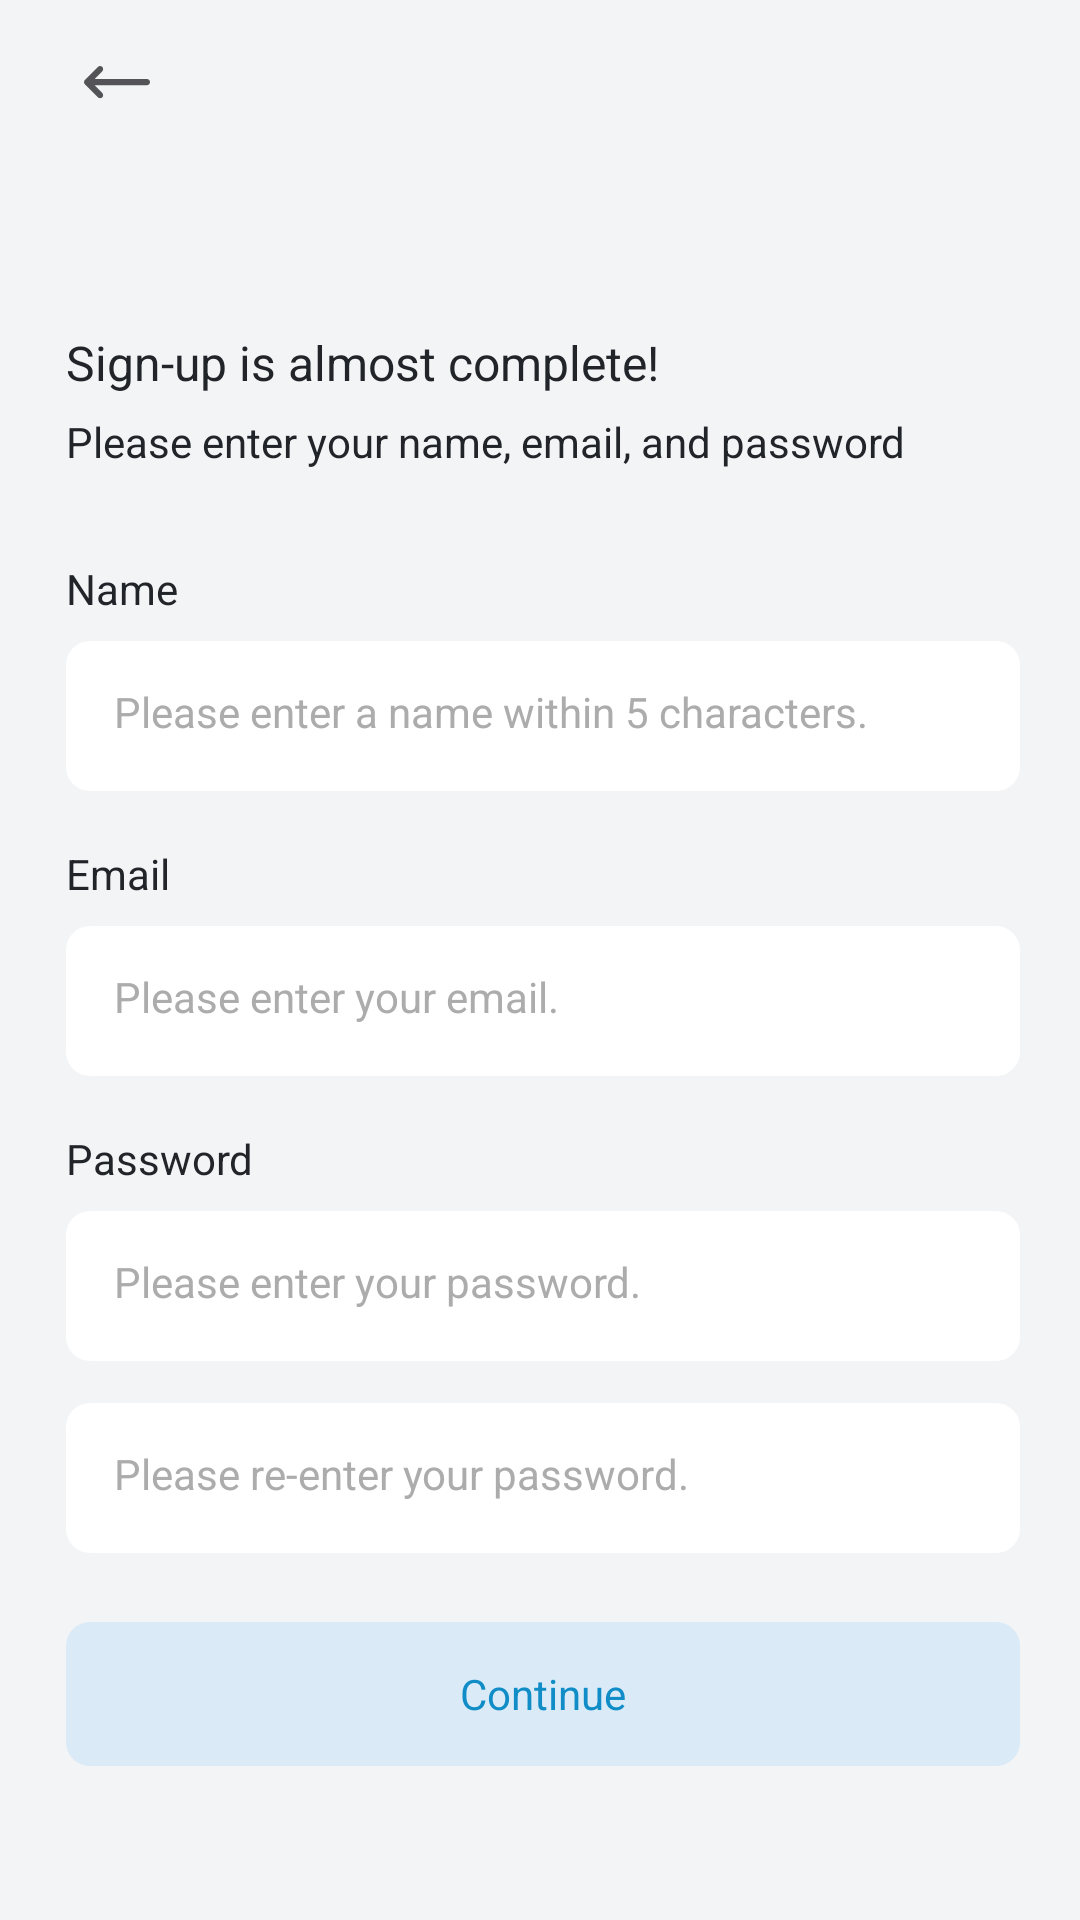

Named icons in this screenshot (1080px×1920px) and their centers, (x,y):
back: (117,82)
